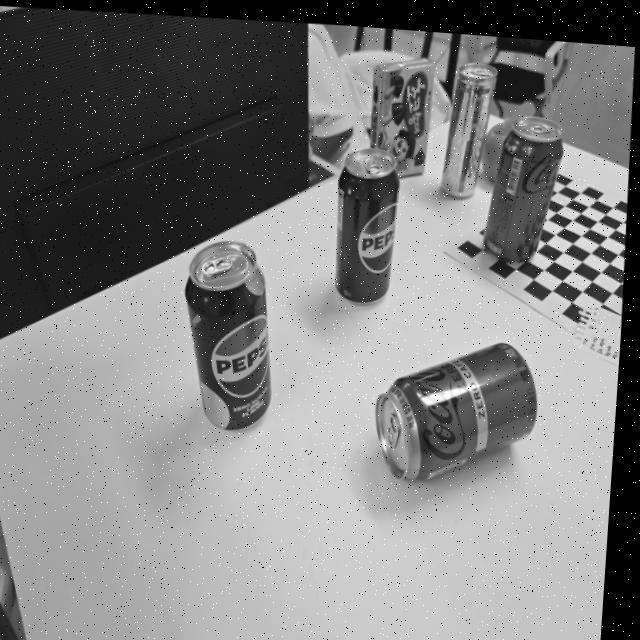can_coke_decaf: (375, 338, 536, 479)
can_pepsi: (332, 149, 396, 301)
can_pepsi_zero: (182, 238, 272, 432)
